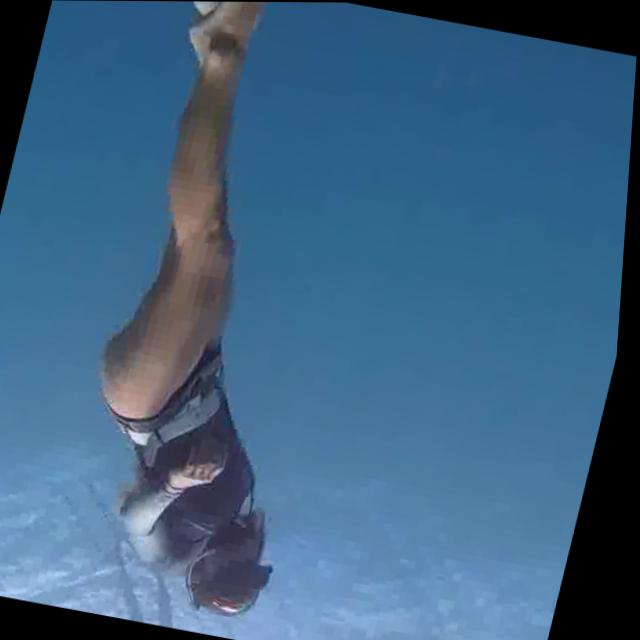human: (0, 0, 435, 637)
